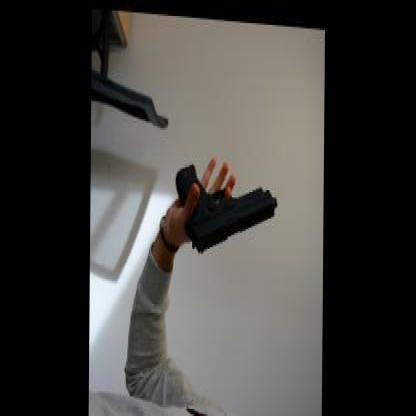pistol: (175, 157, 278, 254)
